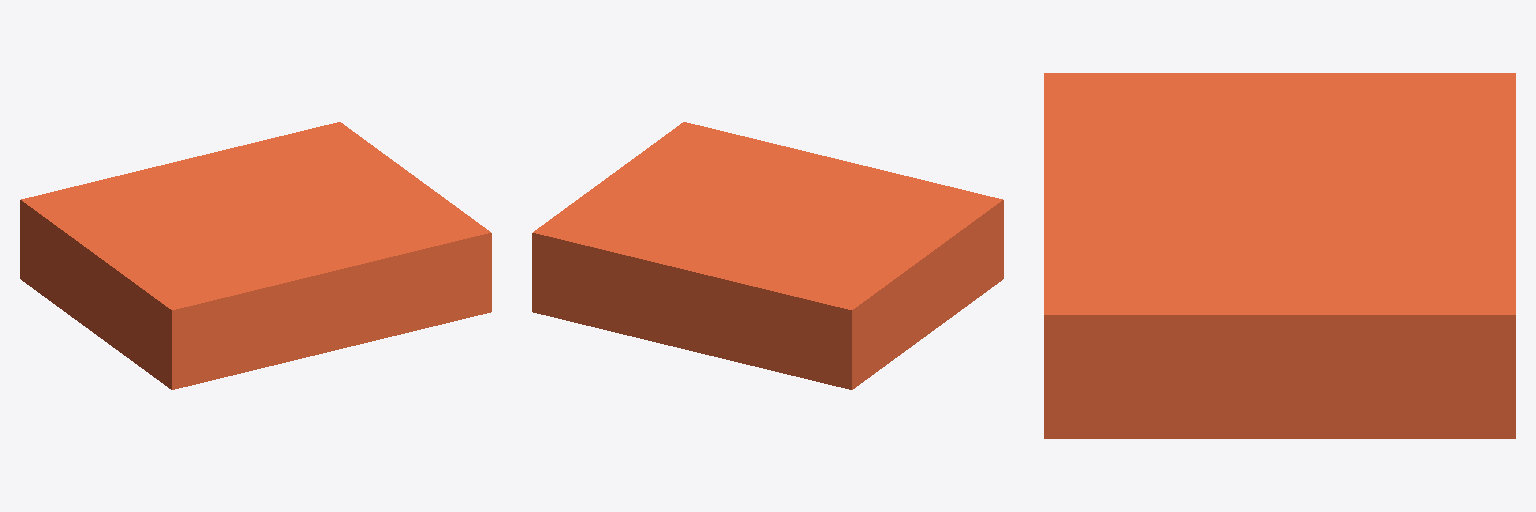
URDF robot description (cube):
<?xml version="1.0"?>
 <robot name="cube">
   <material name="blue">
     <color rgba="0.2 0.63137 0.788 1"/>
   </material>
   <material name="coral">
     <color rgba="1 0.498 0.3137 1"/>
   </material>
   <link name="base_link">
     <visual>
       <geometry>
         <box size="0.2600016 0.21343700408935547 0.062"/>
       </geometry>
       <material name="coral"/>
     </visual>
     <inertial>
       <mass value="0"/>
       <inertia ixx="1.0" ixy="0.0" ixz="0.0" iyy="1.0" iyz="0.0" izz="1.0"/>
     </inertial>
   </link>
 </robot>

--- Facts derived from the render (not from the file) ---
Views: 3 orthographic renders of the robot side by side, from view 1: azimuth 30°, elevation 25°; view 2: azimuth 150°, elevation 25°; view 3: azimuth 270°, elevation 25°.
Robot: cube — 1 links, 0 joints (none); root link base_link; default pose: all joints at 0.
Visible links, largest first — view 1: base_link; view 2: base_link; view 3: base_link.
Link boxes in pixels (box(x1,y1,x2,y2)): base_link: box(20, 122, 491, 389); base_link: box(532, 122, 1003, 389); base_link: box(1044, 73, 1515, 438).
Bounding box of the posed robot: 0.26 × 0.2134 × 0.062 m (x, y, z).
Geometry: primitives only (box / cylinder / sphere), no mesh files.